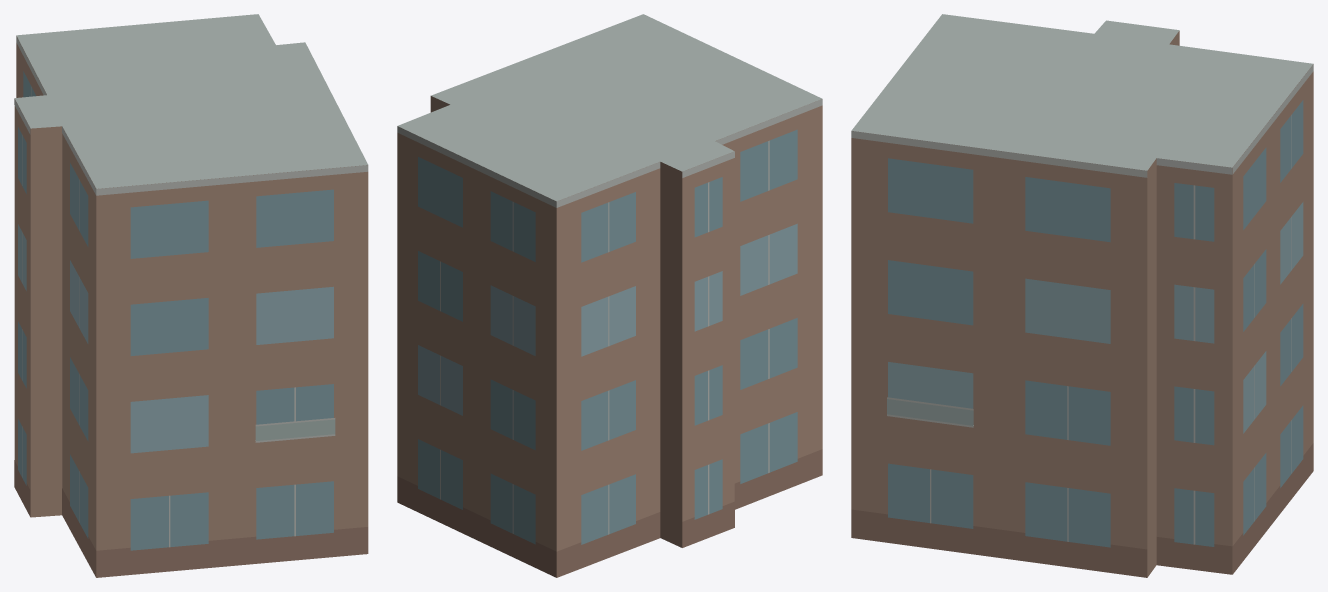
Rendered from survey-upis-32870033.glb.
3 views of the same model, side by side, from view 1: azimuth 30°, elevation 25°; view 2: azimuth 150°, elevation 25°; view 3: azimuth 270°, elevation 25° (orthographic). The views are drawn at different scales.
Parts seen in each view (by area): view 1: survey-upis-32870033.tmp; view 2: survey-upis-32870033.tmp; view 3: survey-upis-32870033.tmp.
Boxes of the visible parts, bbox=[...] form: survey-upis-32870033.tmp: bbox=[14, 14, 368, 577]; survey-upis-32870033.tmp: bbox=[397, 14, 822, 577]; survey-upis-32870033.tmp: bbox=[851, 14, 1313, 577].
Size of the model in its own units: 11.57 by 14 by 14.42.
